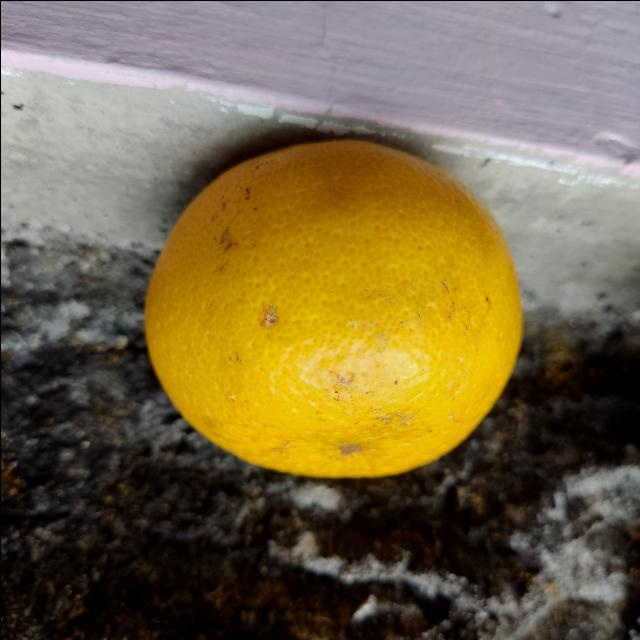agrume: (137, 129, 527, 480)
